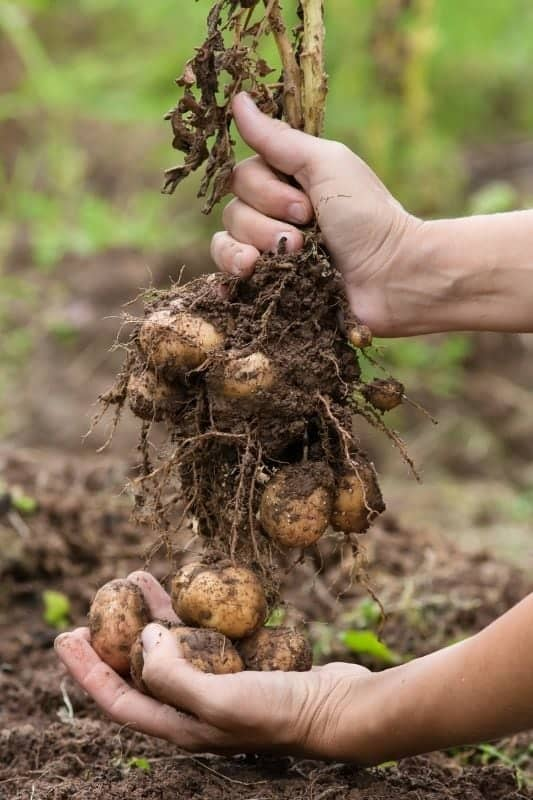potato: (122, 292, 226, 445)
